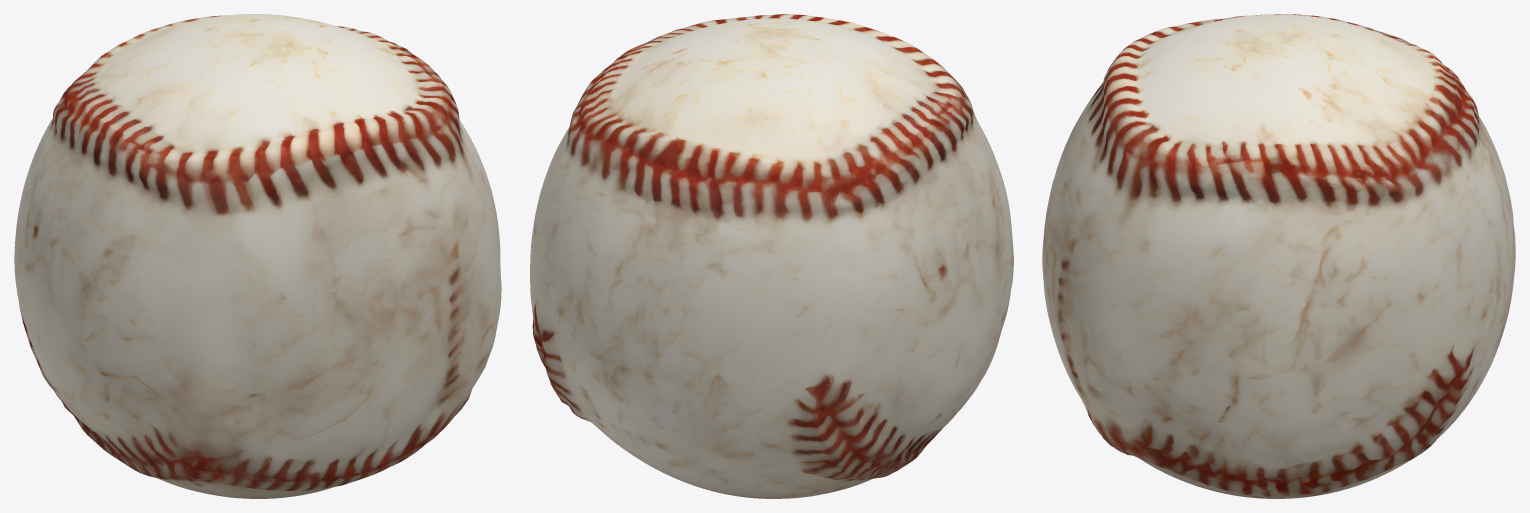
Rendered from asset.glb.
3 renders of one model, left to right at view 1: azimuth 30°, elevation 25°; view 2: azimuth 150°, elevation 25°; view 3: azimuth 270°, elevation 25°, orthographic.
Parts seen in each view (by area): view 1: model; view 2: model; view 3: model.
Part boxes in pixels (left/top/right/bottom): model: left=14, top=14, right=501, bottom=498; model: left=530, top=14, right=1013, bottom=498; model: left=1042, top=14, right=1515, bottom=498.
Size of the model in its own units: 1.9 by 1.9 by 1.87.
Materials: 1 (1 with a texture image).
